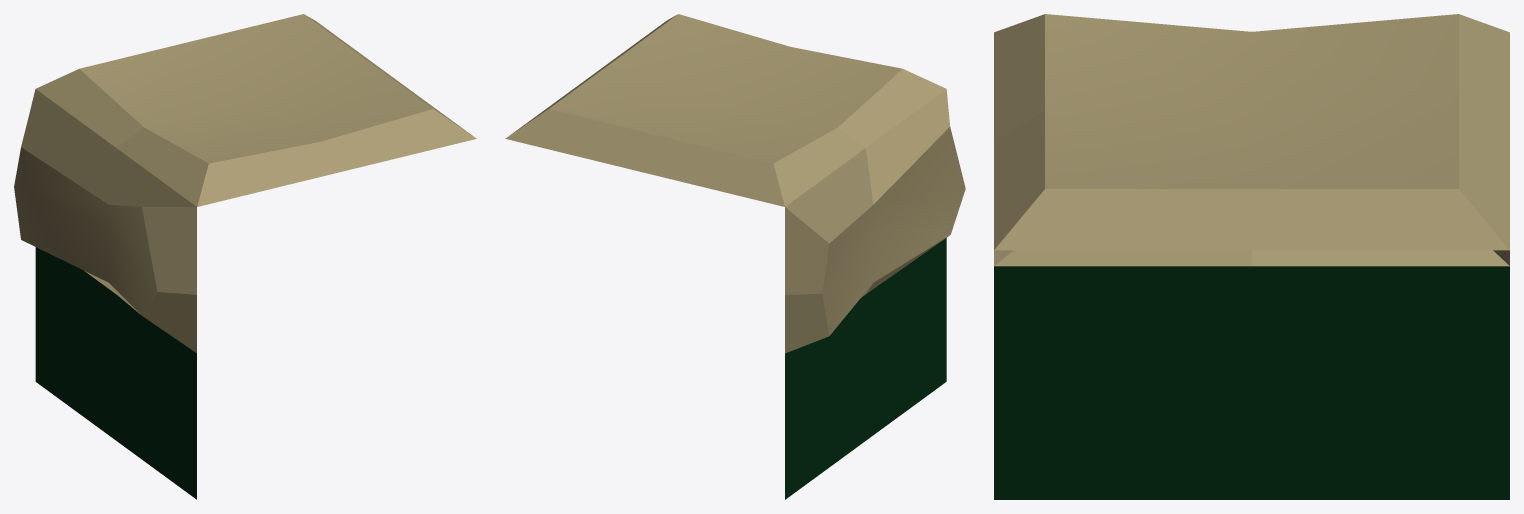
Rendered from Modular_A.fbx.
3 renders of one model, left to right at view 1: azimuth 30°, elevation 25°; view 2: azimuth 150°, elevation 25°; view 3: azimuth 270°, elevation 25°, orthographic. The views are drawn at different scales.
Visible parts, largest first — view 1: Geo_A; view 2: Geo_A; view 3: Geo_A.
Part boxes in pixels (left/top/right/bottom): Geo_A: left=14, top=14, right=476, bottom=499; Geo_A: left=505, top=14, right=965, bottom=499; Geo_A: left=994, top=14, right=1509, bottom=499.
Bounding box in the file's own units: 4.42 × 4.34 × 4.
